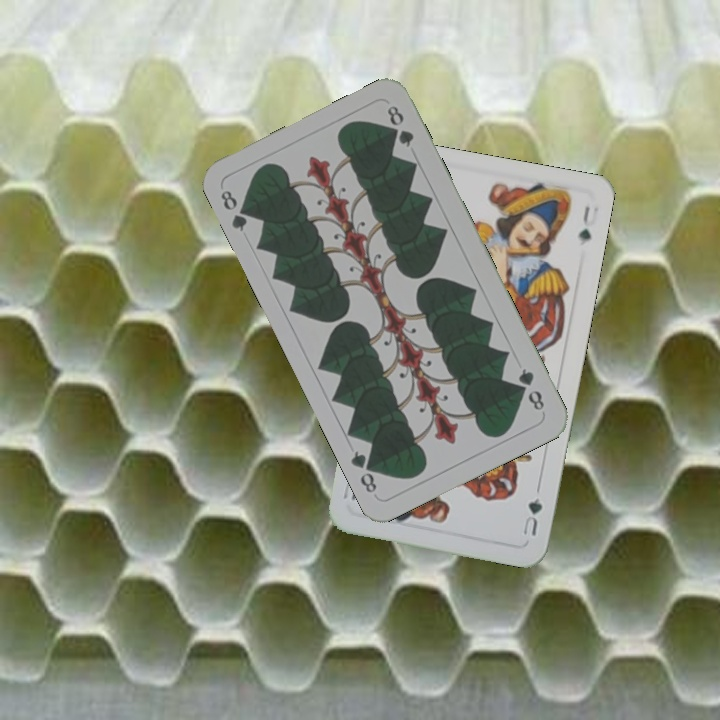G8: (216, 186, 255, 234), (514, 364, 547, 413)
GU: (518, 494, 545, 538)
